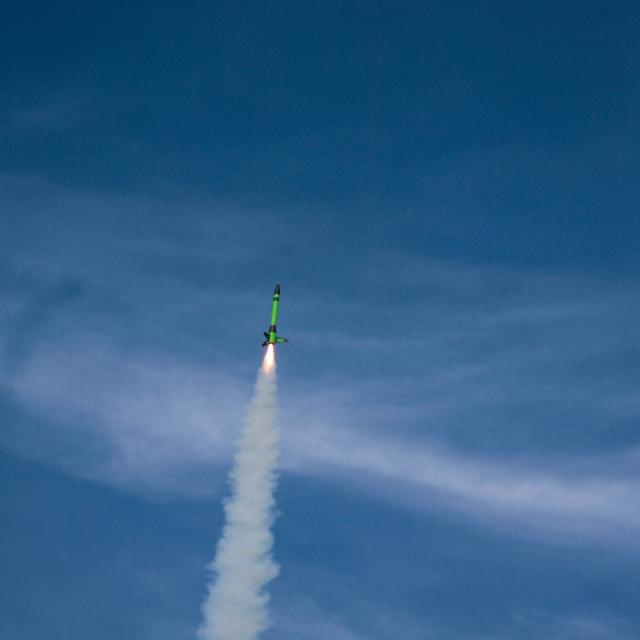Rocket: (260, 281, 290, 347)
